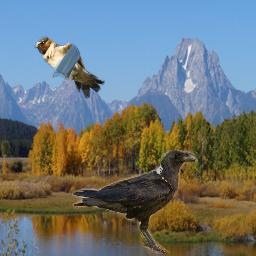Crow: (72, 150, 198, 254)
Swallow: (34, 36, 105, 99)
